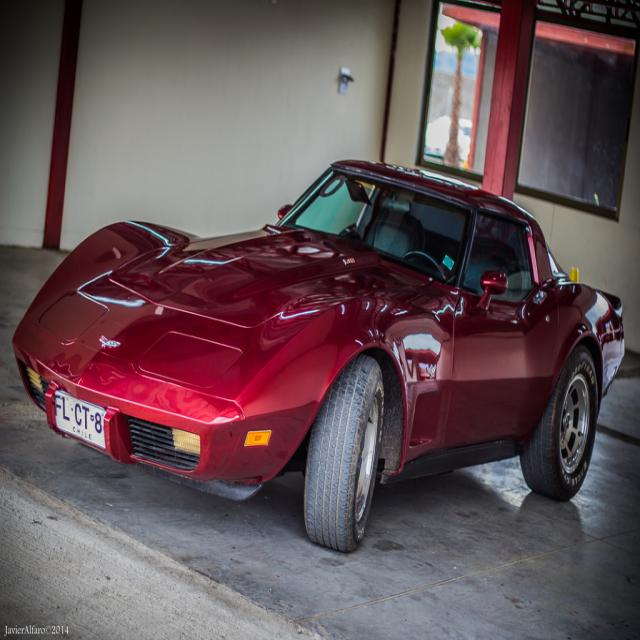car: (23, 159, 608, 542)
